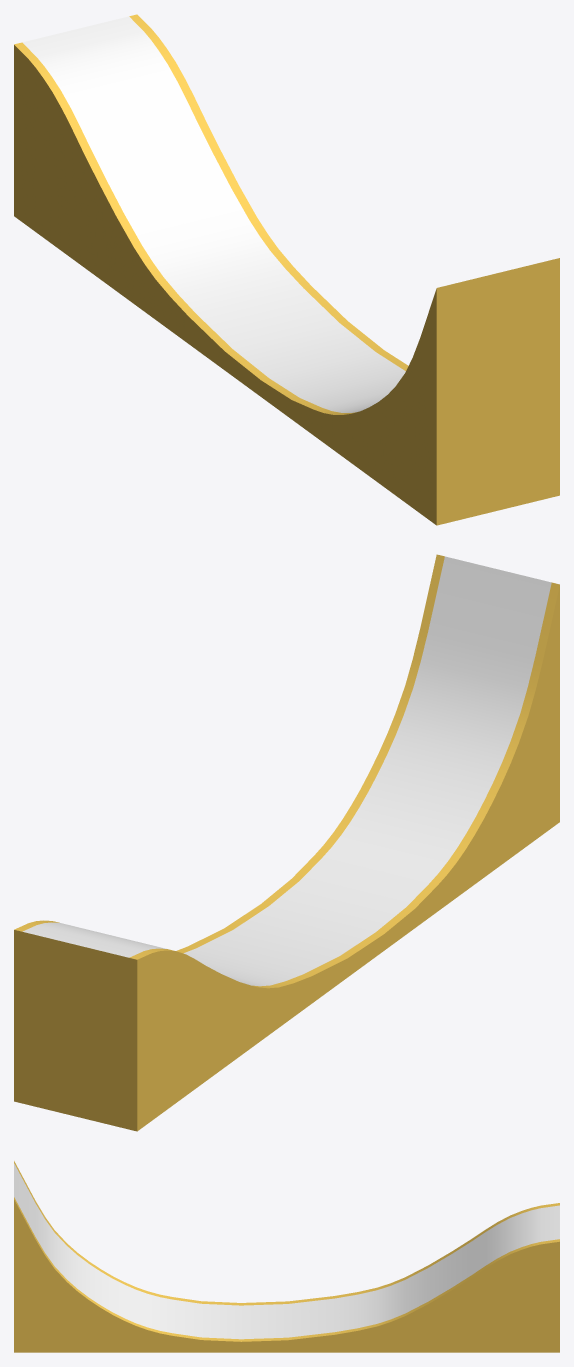
Rendered from Ramp.fbx.
3 renders of one model, top to bottom at view 1: azimuth 30°, elevation 25°; view 2: azimuth 150°, elevation 25°; view 3: azimuth 270°, elevation 25°, orthographic. The views are drawn at different scales.
Parts seen in each view (by area): view 1: Cube; view 2: Cube; view 3: Cube.
Boxes of the visible parts, x1=… form: Cube: x1=14, y1=14, x2=559, y2=525; Cube: x1=14, y1=554, x2=559, y2=1131; Cube: x1=14, y1=1161, x2=559, y2=1352.
Size of the model in its own units: 468 by 863 by 2781.
1 material, 1 textured.
